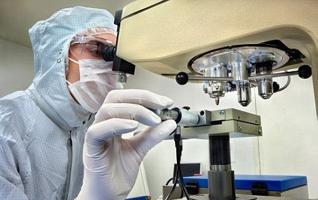person: (1, 7, 172, 200)
